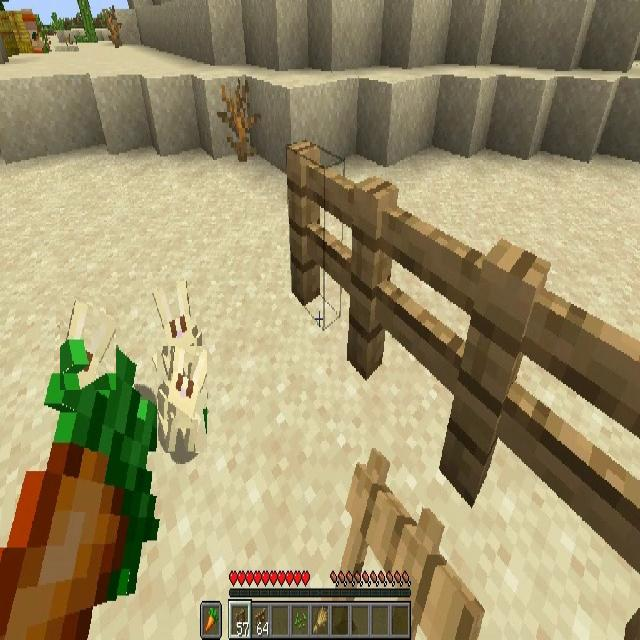rabbit: (158, 346, 208, 453), (60, 296, 116, 390), (154, 282, 202, 387)
